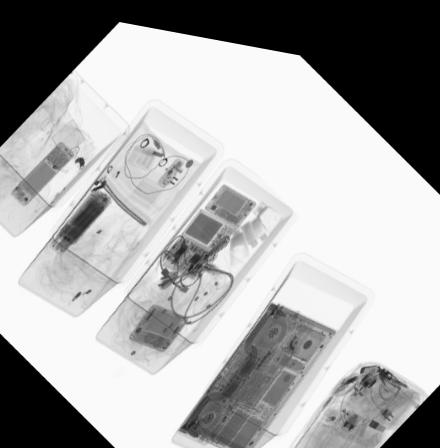Powerbank: (50, 190, 110, 250)
